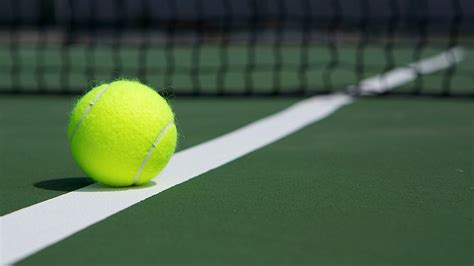tennis_ball: (66, 79, 180, 187)
